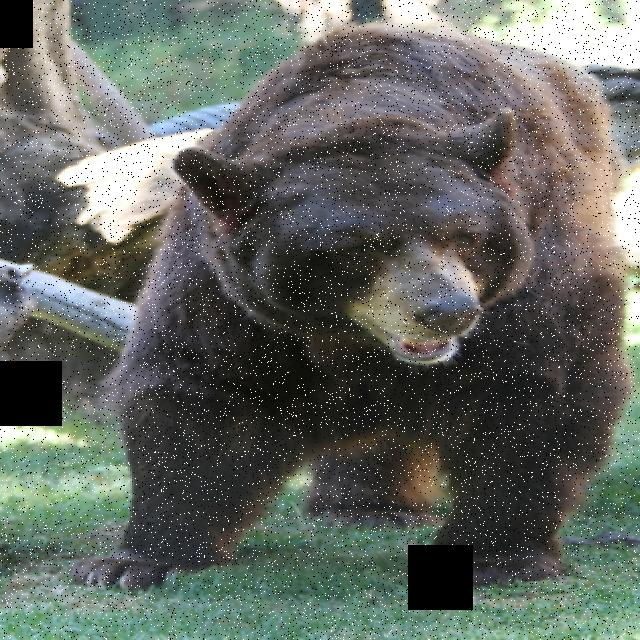Bear: (86, 23, 626, 601)
